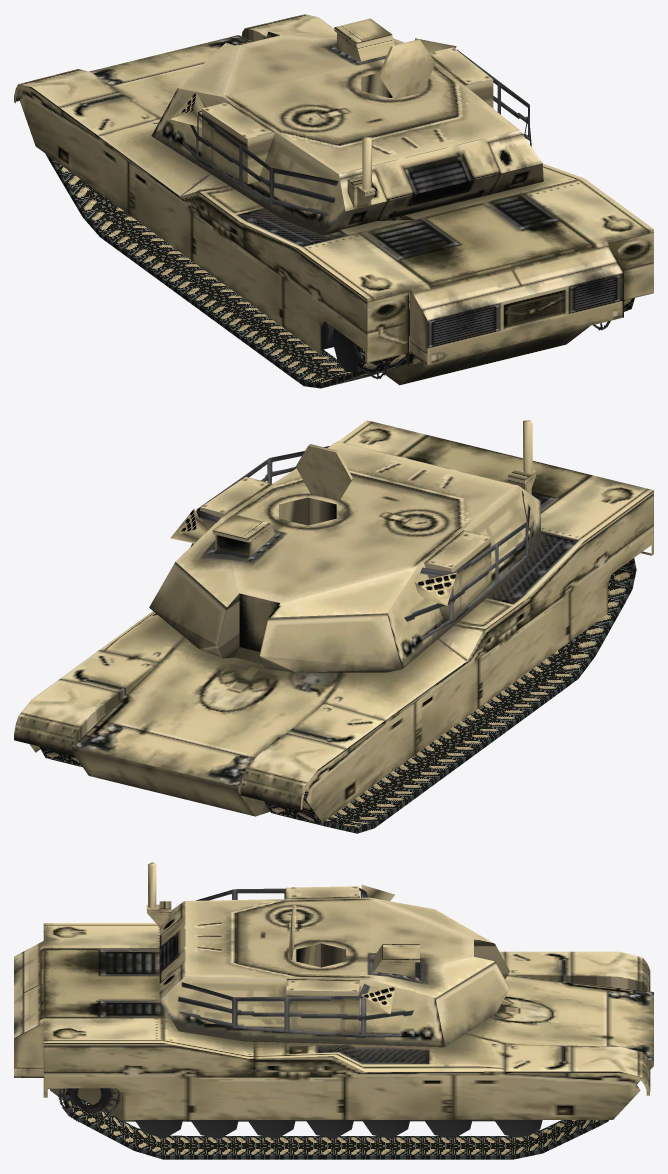
File: VHABRAMS_M1A1.glb
The picture shows the model from 3 angles, top to bottom: view 1: azimuth 30°, elevation 25°; view 2: azimuth 150°, elevation 25°; view 3: azimuth 270°, elevation 25°; orthographic projection. The views are drawn at different scales.
Visible parts, largest first — view 1: BODY, TURRET, VHABRAMS_TRACK_LEFT, HATCH, VHABRAMS_WHEEL01RIGHT; view 2: BODY, TURRET, VHABRAMS_TRACK_LEFT, HATCH; view 3: BODY, TURRET, VHABRAMS_TRACK_RIGHT, VHABRAMS_WHEEL01LEFT (×7), VHABRAMS_WHEEL02LEFT.
Boxes of the visible parts, x1,y1,x2,y2 form: BODY: [14, 14, 653, 385]; TURRET: [151, 18, 543, 235]; VHABRAMS_TRACK_LEFT: [45, 153, 407, 388]; HATCH: [378, 39, 435, 99]; VHABRAMS_WHEEL01RIGHT: [332, 328, 359, 372]; BODY: [14, 420, 653, 822]; TURRET: [149, 420, 541, 672]; VHABRAMS_TRACK_LEFT: [265, 558, 636, 833]; HATCH: [295, 444, 352, 500]; BODY: [14, 923, 653, 1121]; TURRET: [146, 862, 509, 1047]; VHABRAMS_TRACK_RIGHT: [63, 1088, 608, 1159]; VHABRAMS_WHEEL01LEFT (×7): [135, 1120, 542, 1138]; VHABRAMS_WHEEL02LEFT: [58, 1088, 120, 1122].
Bounding box in the file's own units: 3.56 × 2.89 × 8.02.
Materials: 5 (5 with a texture image).
